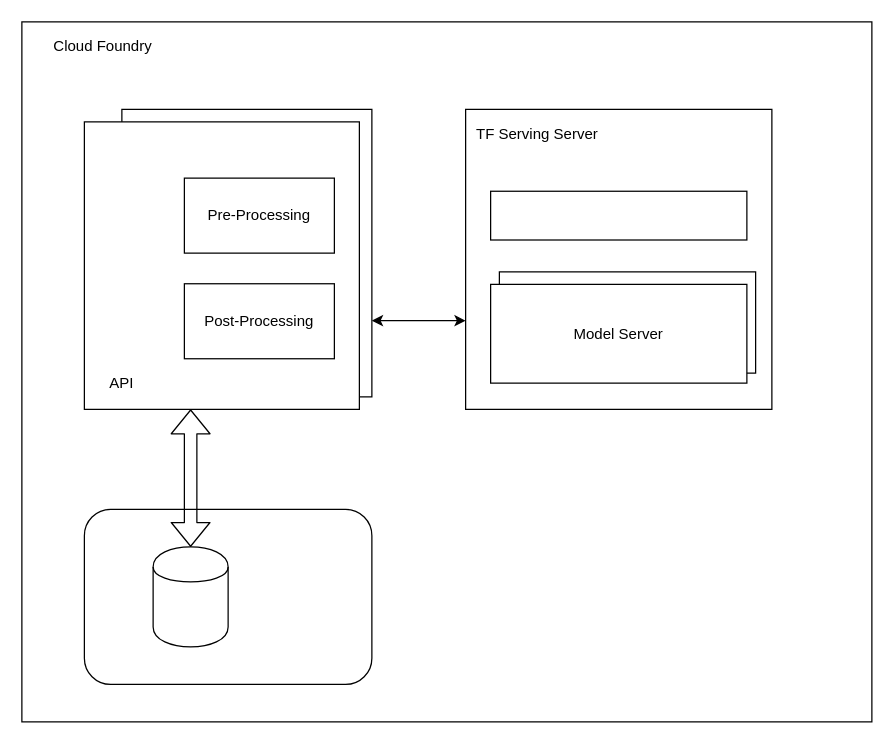
The diagram is 894 pixels wide and 744 high, and some of its shapes have lost their labels. Here are the shapes that lost their labels. From the top down, the centre of each, then its label:
the point at 618,215: Models store
the point at 190,596: Redis Cache
